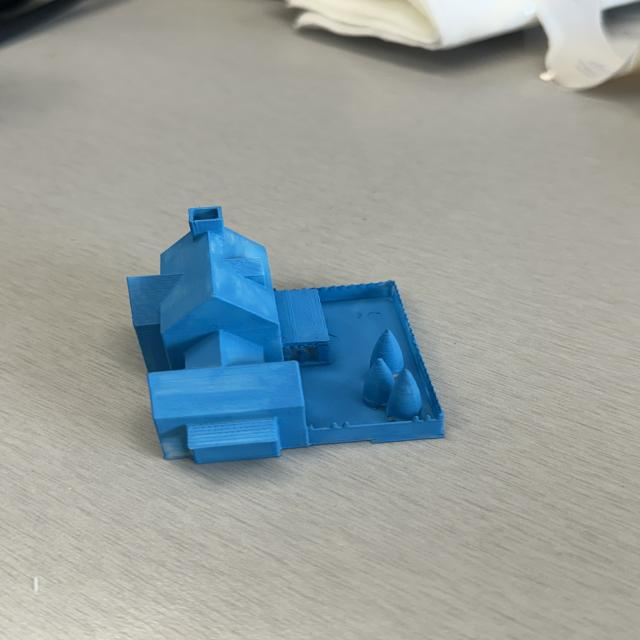house: (126, 204, 448, 466)
